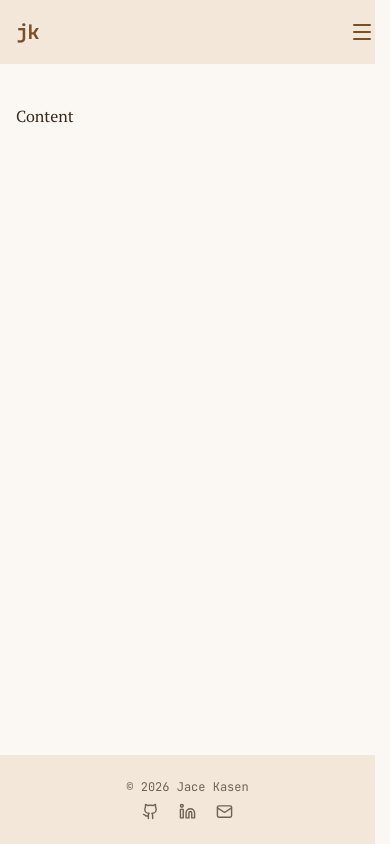
Test: Shell Component › closes the mobile menu when toggle is clicked again
This screenshot has width=390, height=844.
What coordinates should you click on to do the following:
click the button with test id "mobile-menu-toggle"
I would click on:
 (362, 32)
Its box is [350, 20, 374, 44].
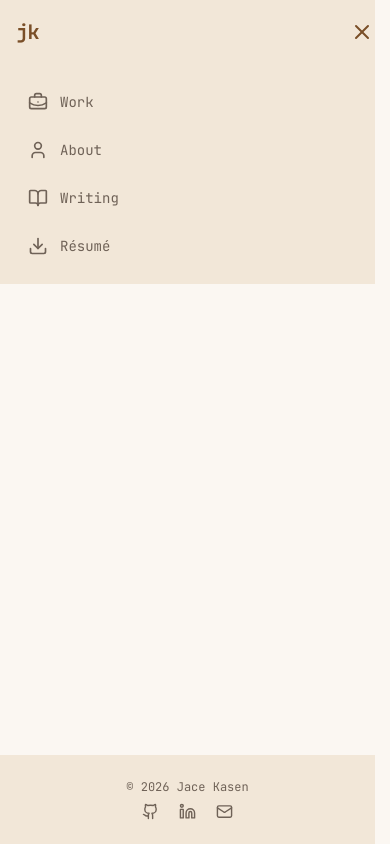
Expected: the element with test id "mobile-menu" is shown, [0, 64, 389, 284]
What coordinates should you click on to do the following:
click the button with test id "mobile-menu-toggle"
I would click on:
 (362, 32)
Its box is [350, 20, 374, 44].
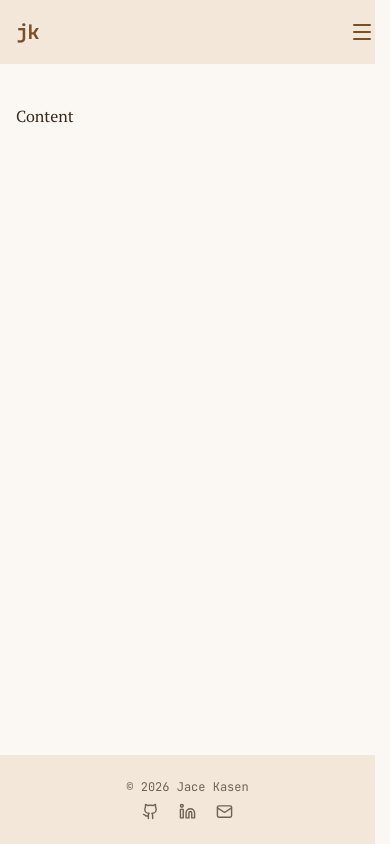
Expected: the element with test id "mobile-menu" is gone
